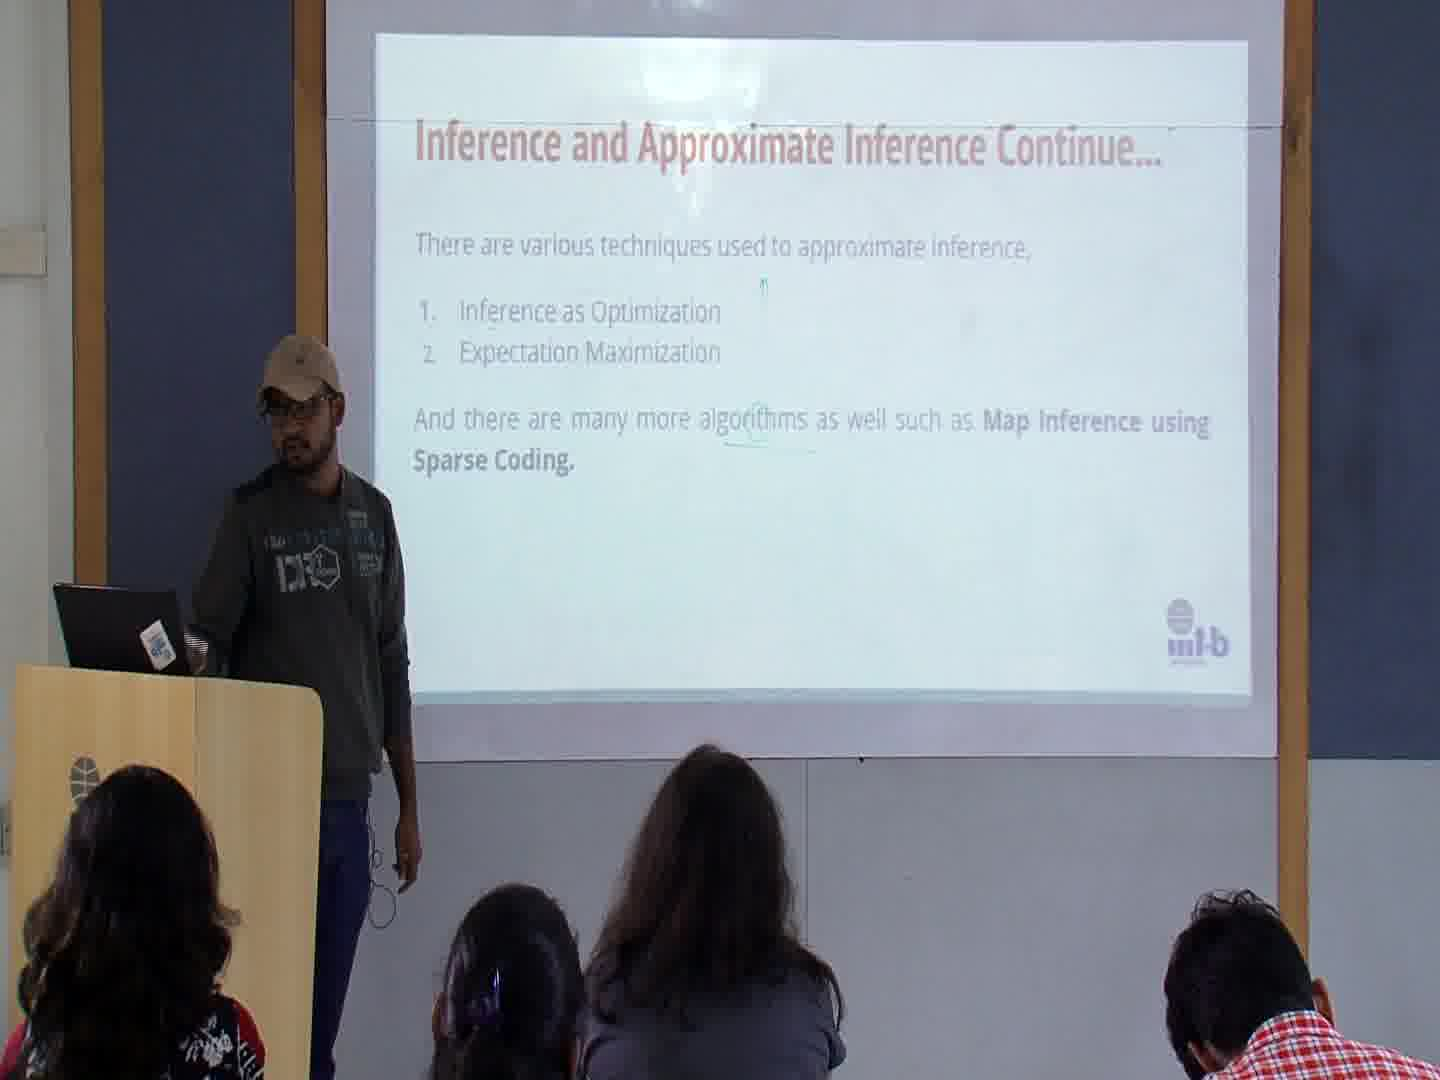slide: (373, 31, 1250, 706)
